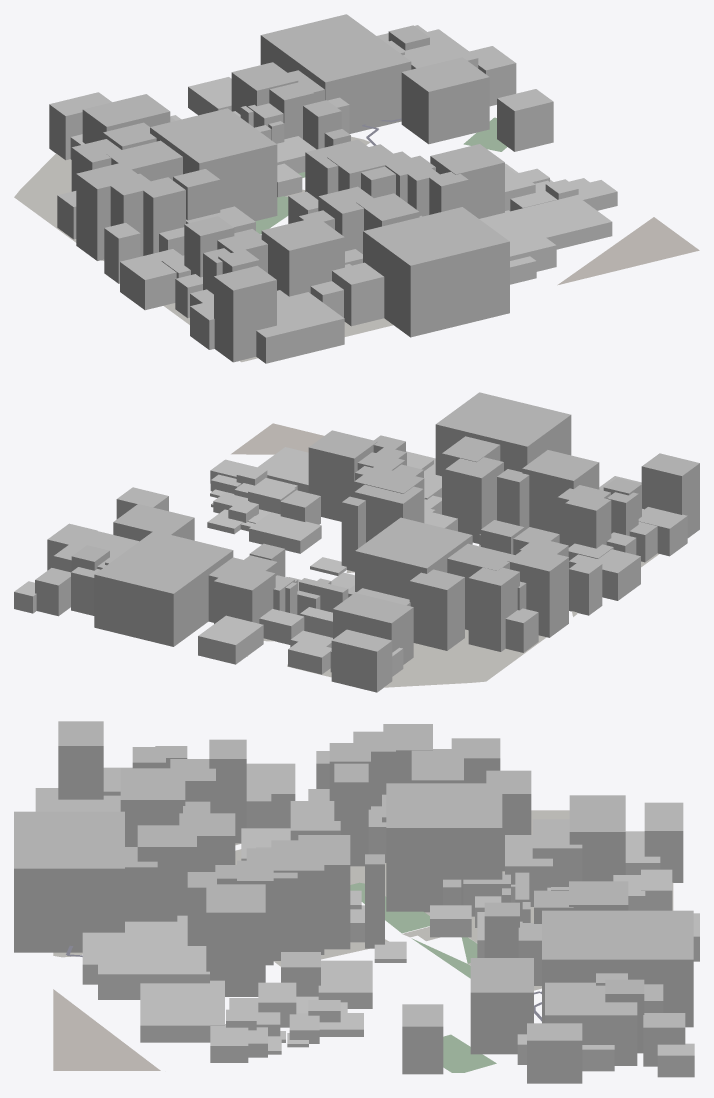
Rendered from 121_99_mid.glb.
3 views of the same model, one above another, from view 1: azimuth 30°, elevation 25°; view 2: azimuth 150°, elevation 25°; view 3: azimuth 270°, elevation 25° (orthographic). The views are drawn at different scales.
Bounding box in the file's own units: 540 × 77.41 × 553.
